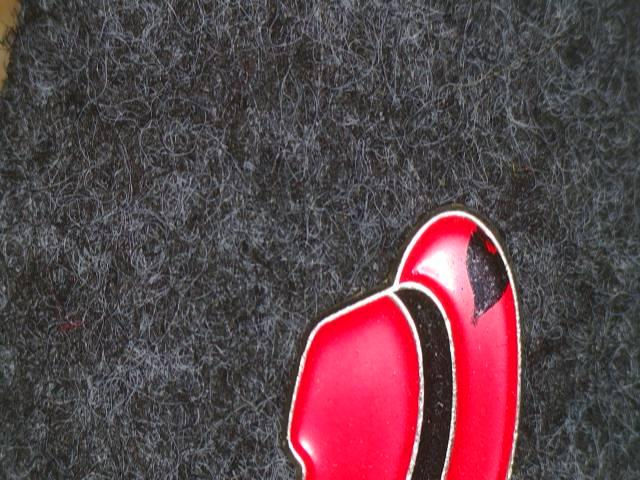Red-Hat: (273, 173, 539, 480)
Scratch: (444, 205, 526, 333)
